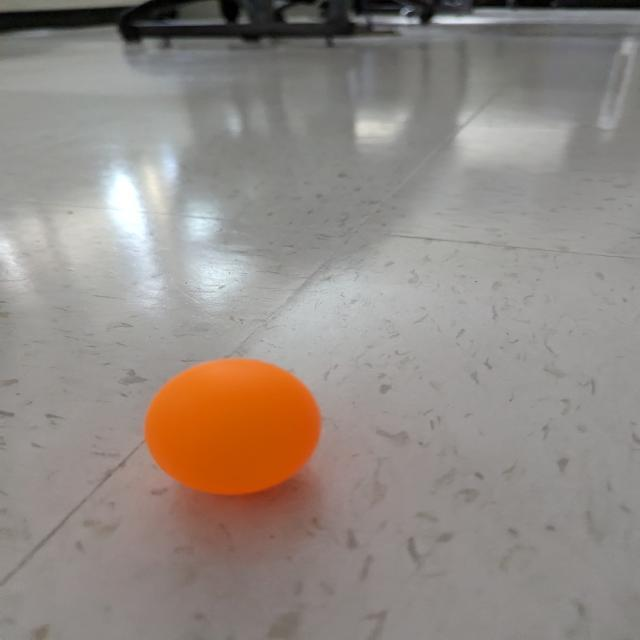ping-pong-ball: (134, 353, 328, 503)
